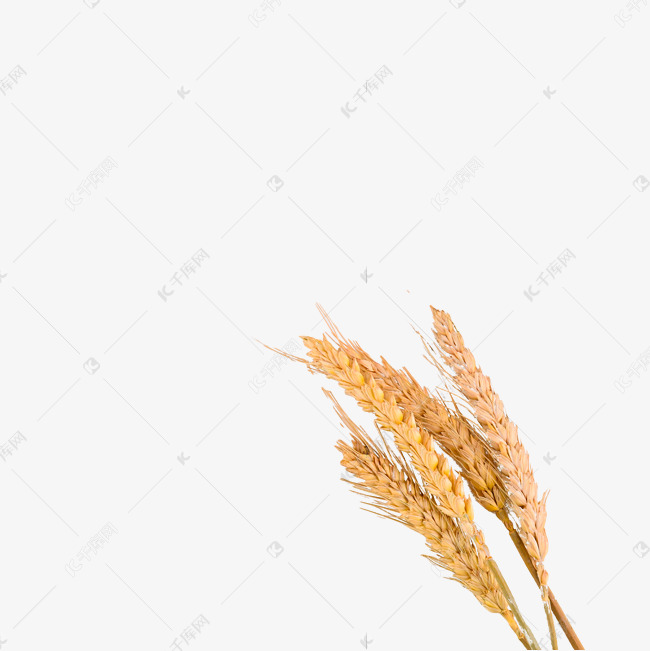wheat: (343, 436, 516, 634), (310, 330, 501, 507), (439, 299, 549, 558)
